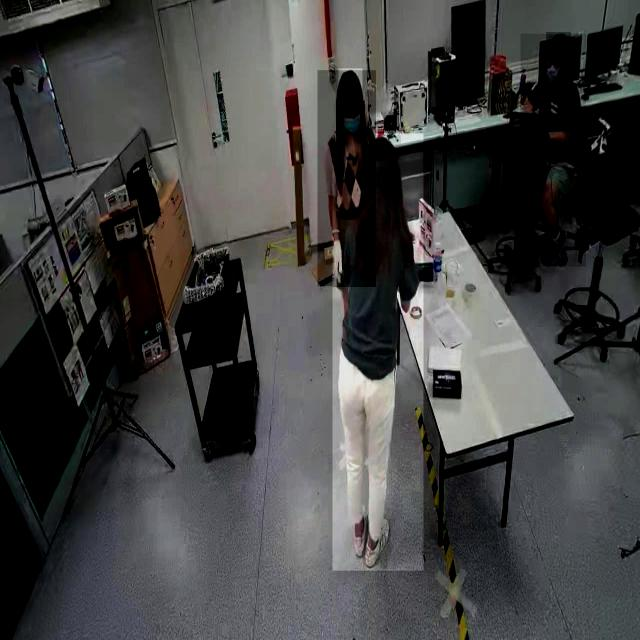face_mask: (544, 54, 564, 92), (342, 109, 360, 135)
head_nohelmet: (366, 135, 401, 162), (338, 68, 362, 90), (545, 32, 571, 52)
person: (332, 134, 424, 572), (520, 34, 586, 268), (317, 70, 376, 287)
shoes: (364, 515, 391, 569), (350, 502, 367, 559)
